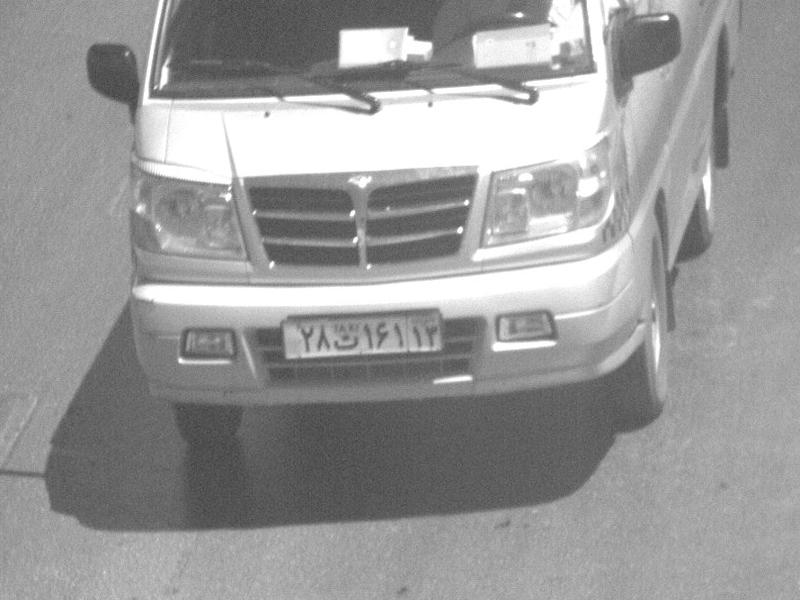Plate: (279, 310, 445, 356)
